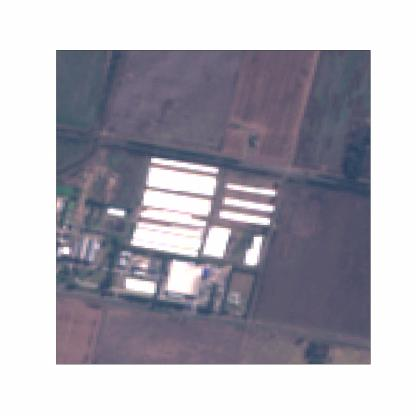silobolsa: (150, 157, 218, 173), (130, 240, 198, 256), (220, 210, 270, 224)
